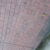zebra: (1, 1, 50, 44)
